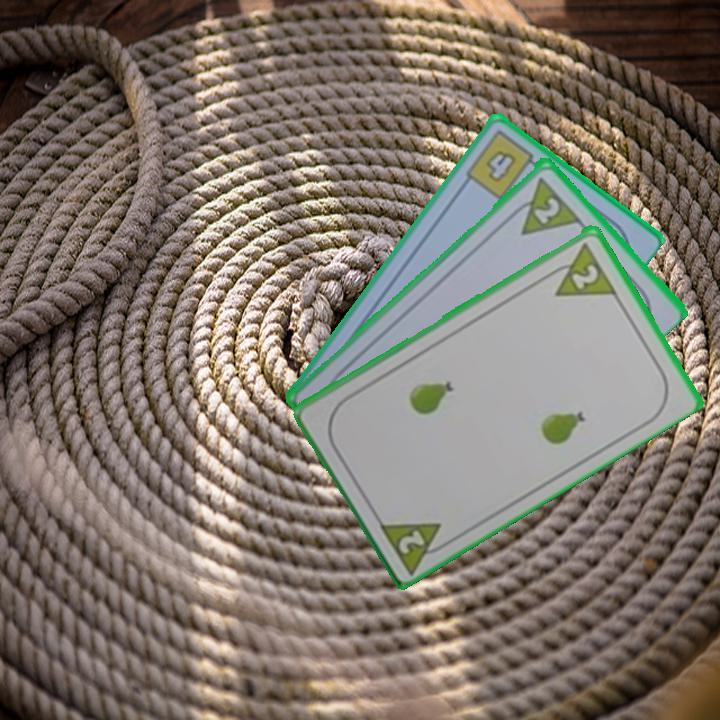2p: (541, 238, 619, 300), (530, 192, 563, 226), (394, 525, 429, 557)
4b: (461, 126, 544, 203)
